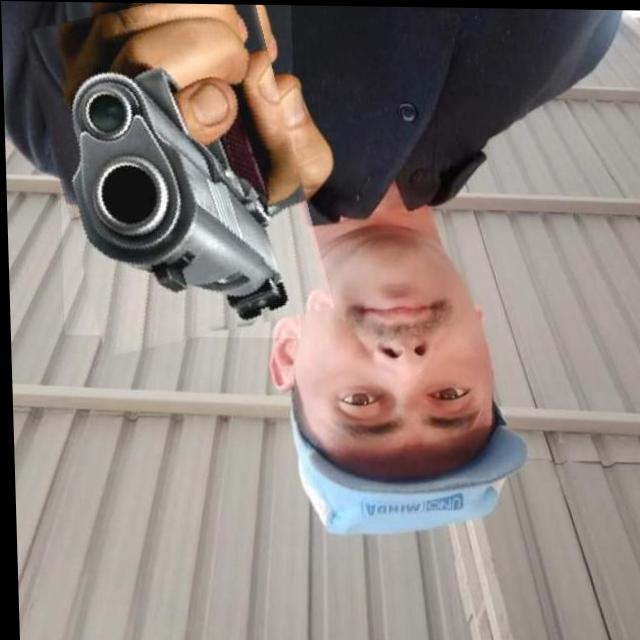handgun: (37, 0, 315, 348)
